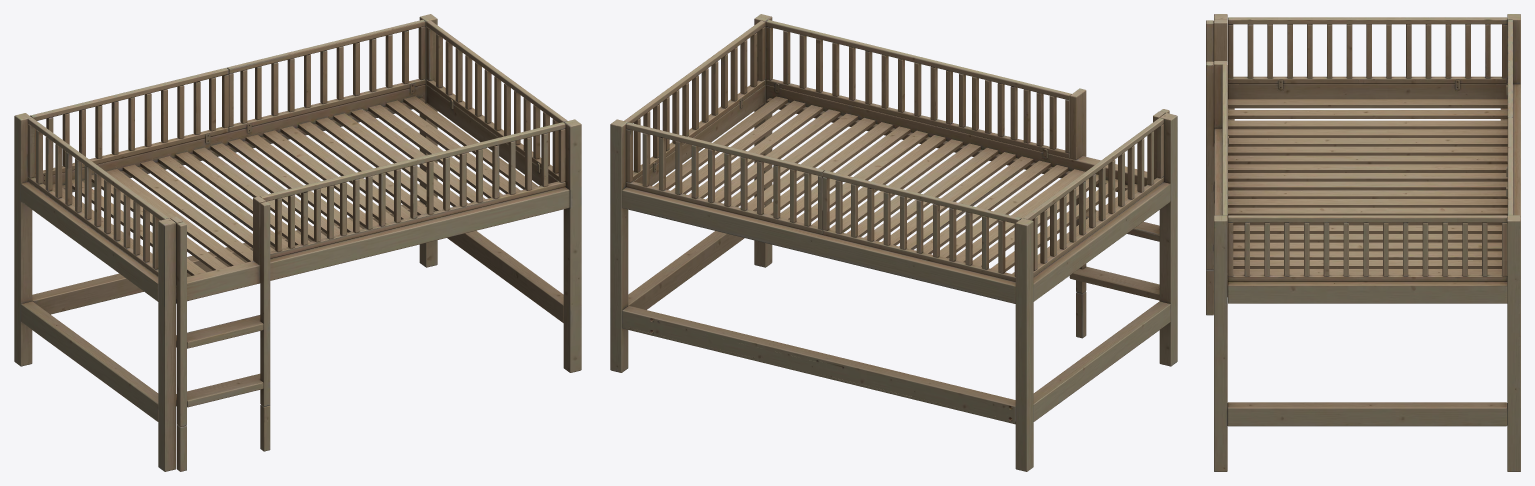
The picture shows the model from 3 angles, left to right: view 1: azimuth 30°, elevation 25°; view 2: azimuth 150°, elevation 25°; view 3: azimuth 270°, elevation 25°; orthographic projection.
Parts seen in each view (by area): view 1: 200x120; view 2: 200x120; view 3: 200x120.
Boxes of the visible parts, <box> form: 200x120: <box>14,14,581,471</box>; 200x120: <box>610,14,1177,471</box>; 200x120: <box>1206,14,1520,471</box>.
Size of the model in its own units: 2.14 by 1.21 by 1.37.
Materials: 1 (1 with a texture image).
